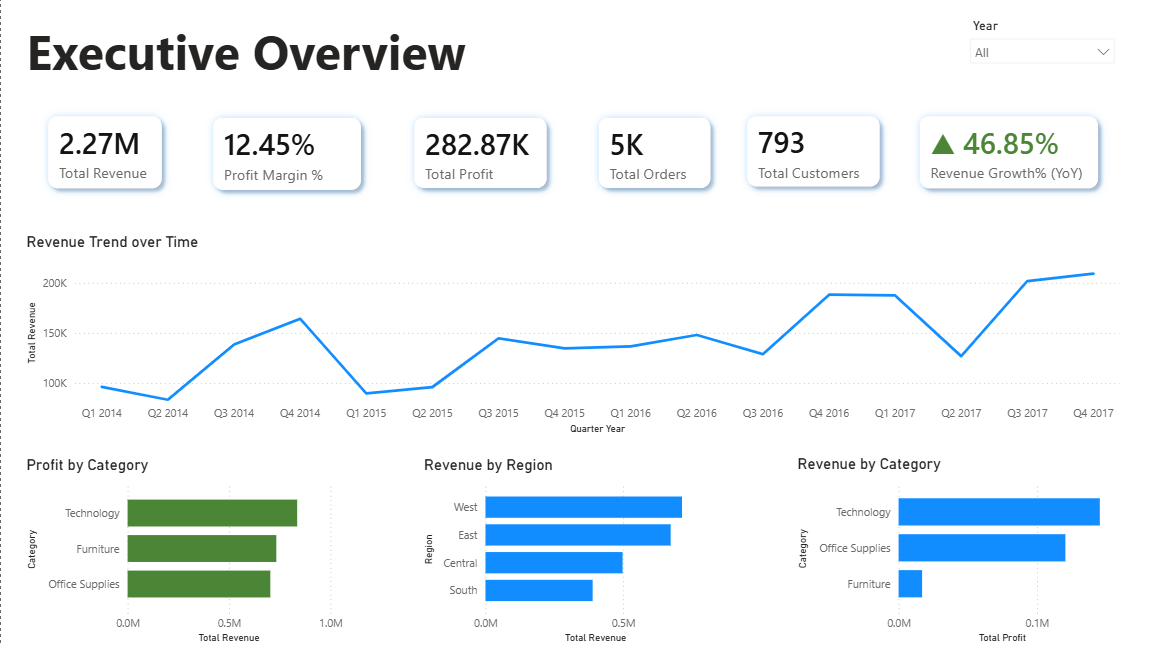

The dashboard page shown, as its layout file describes it:
{"tool":"powerbi","page":{"name":"Executive Overview","canvas":[1280,720],"ordinal":0},"visuals":[{"type":"cardVisual","fields":{"Data":["KPI Measures.Total Revenue"]},"box":[22.8,100,184.2,138.6],"z":0},{"type":"cardVisual","fields":{"Data":["KPI Measures.Total Profit"]},"box":[429.8,101.8,205.3,136.8],"z":1000},{"type":"cardVisual","fields":{"Data":["KPI Measures.Profit Margin %"]},"box":[207,101.8,222.8,138.6],"z":2000},{"type":"cardVisual","fields":{"Data":["KPI Measures.Total Orders"]},"box":[635.1,101.8,182.5,136.8],"z":3000},{"type":"cardVisual","fields":{"Data":["KPI Measures.Total Customers"]},"box":[817.5,100,205.3,136.8],"z":4000},{"type":"cardVisual","fields":{"Data":["KPI Measures.Revenue Growth %"]},"box":[1008.8,100,238.6,138.6],"z":5000},{"type":"lineChart","title":"Revenue Trend over Time","fields":{"Category":["DimDate.Quarter Year"],"Y":["KPI Measures.Total Revenue"]},"box":[22.8,257.9,1224.6,228.1],"z":6000},{"type":"barChart","title":"Revenue by Region","fields":{"Category":["FactSales.Region"],"Y":["KPI Measures.Total Revenue"]},"box":[464.9,507,336.8,212.3],"z":6001},{"type":"barChart","title":"Profit by Category","fields":{"Category":["DimProduct.Category"],"Y":["KPI Measures.Total Revenue"]},"box":[22.8,507,361.4,212.3],"z":6002},{"type":"barChart","title":"Revenue by Category","fields":{"Category":["DimProduct.Category"],"Y":["KPI Measures.Total Profit"]},"box":[880.7,505.3,366.7,214],"z":6003},{"type":"slicer","fields":{"Values":["DimDate.Year"]},"box":[1066.7,15.8,180.7,68.4],"z":6004},{"type":"textbox","box":[23.3,15,678.3,85],"z":6005}]}

Visuals, with their boxes in screenshot pixels (x1, y1, x2, y2), scaled from the page's 1280x720 canvas onto the 1149x646 screenshot:
cardVisual - KPI Measures.Total Revenue: [20,90,186,214]
cardVisual - KPI Measures.Total Profit: [386,91,570,214]
cardVisual - KPI Measures.Profit Margin %: [186,91,386,216]
cardVisual - KPI Measures.Total Orders: [570,91,734,214]
cardVisual - KPI Measures.Total Customers: [734,90,918,212]
cardVisual - KPI Measures.Revenue Growth %: [906,90,1120,214]
"Revenue Trend over Time" lineChart: [20,231,1120,436]
"Revenue by Region" barChart: [417,455,720,645]
"Profit by Category" barChart: [20,455,345,645]
"Revenue by Category" barChart: [791,453,1120,645]
slicer - DimDate.Year: [958,14,1120,76]
textbox: [21,13,630,90]
